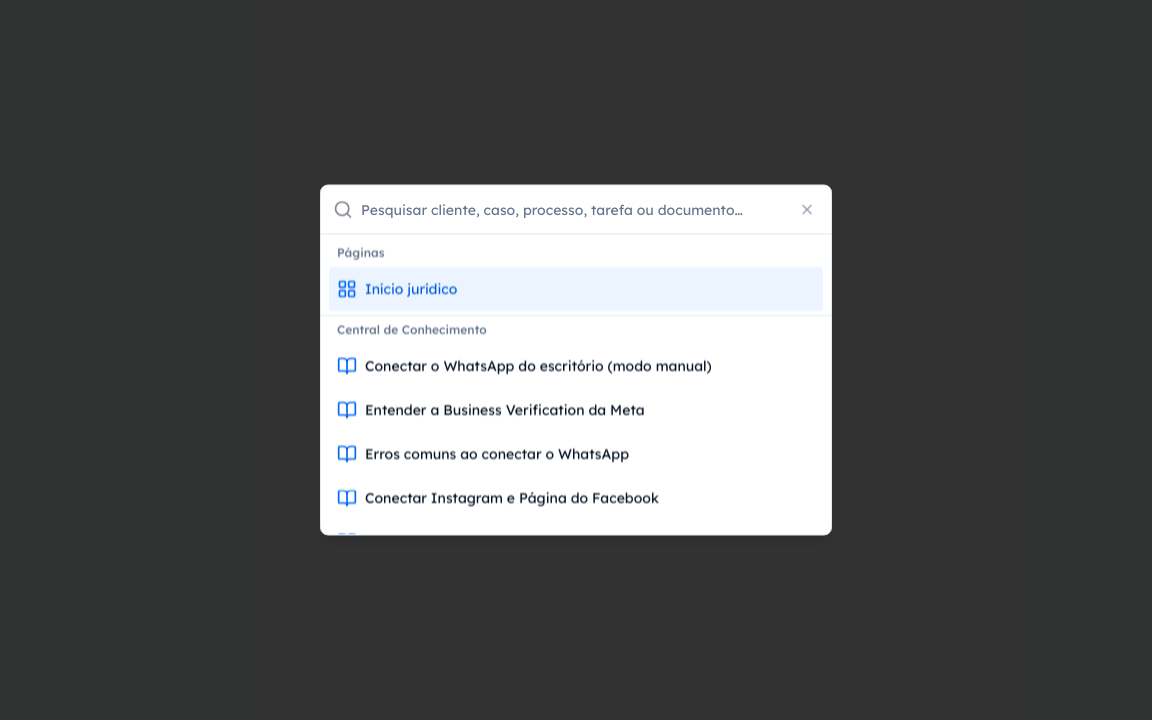
Test case: pesquisa jurídica global › consulta fontes reais somente após dois caracteres e preserva resultados parciais
In the dropdown named "Pesquisa jurídica global": (590, 210) [361, 186, 819, 234], type "p"
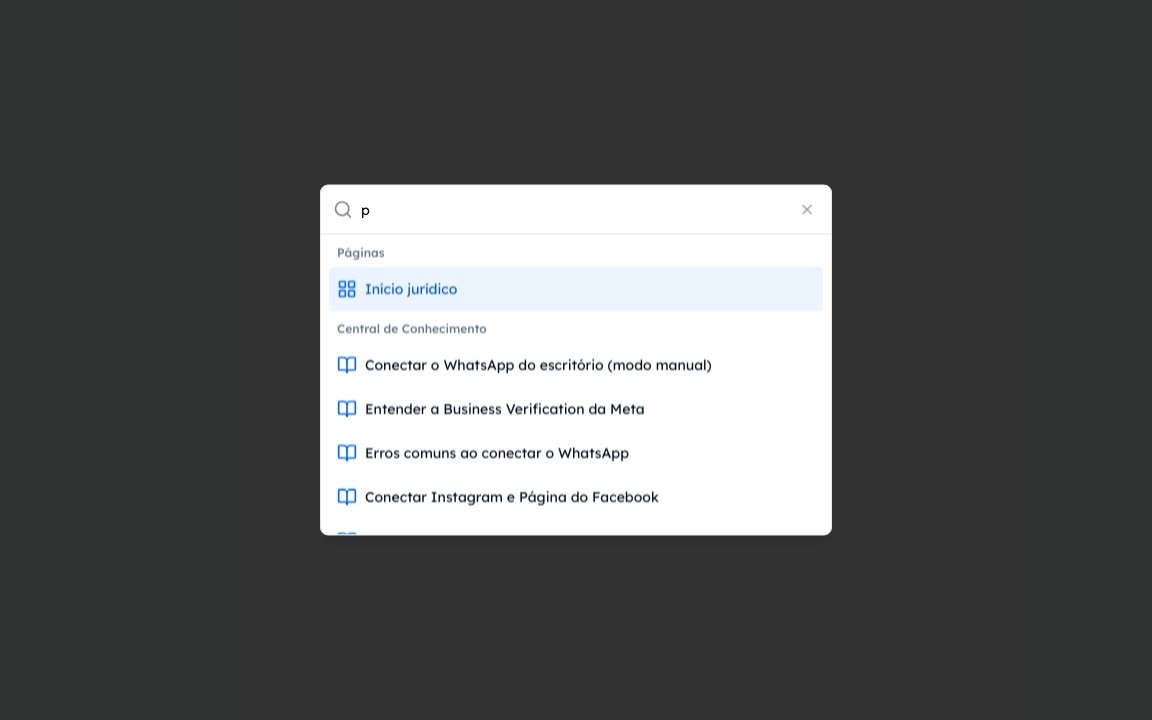
Replace the text in the dropdown named "Pesquisa jurídica global" with "fiscal": (590, 210) [361, 186, 819, 234]
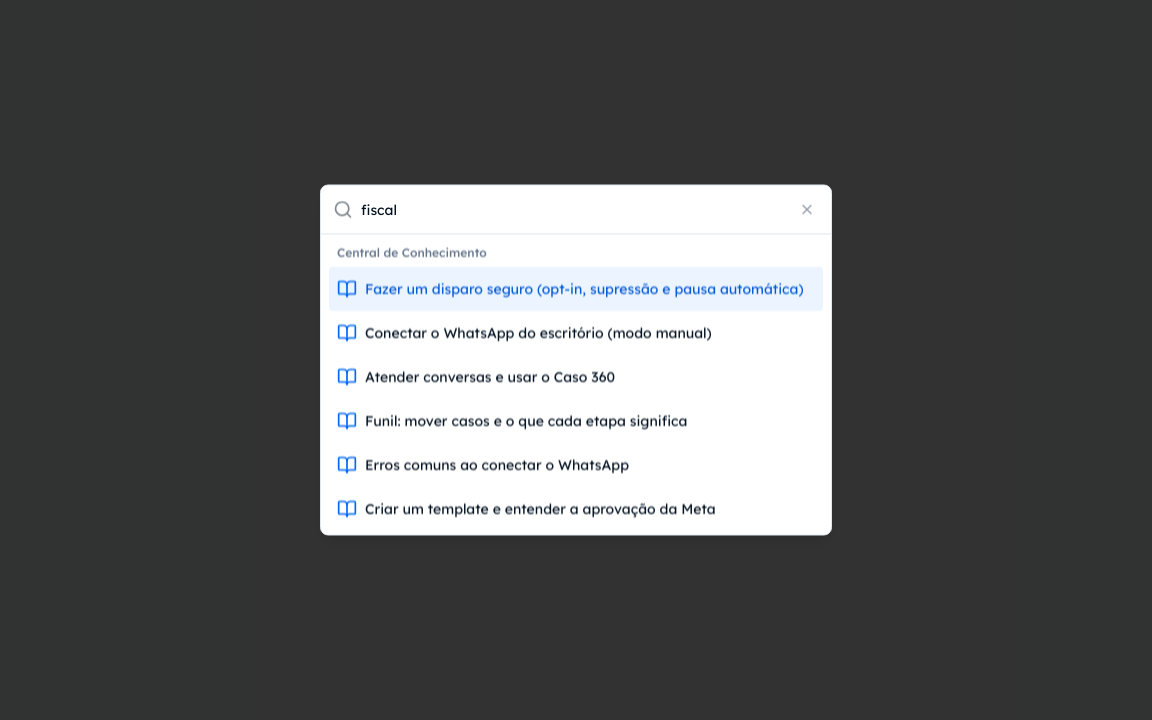
Replace the text in the dropdown named "Pesquisa jurídica global" with "0001234": (590, 210) [361, 186, 819, 234]
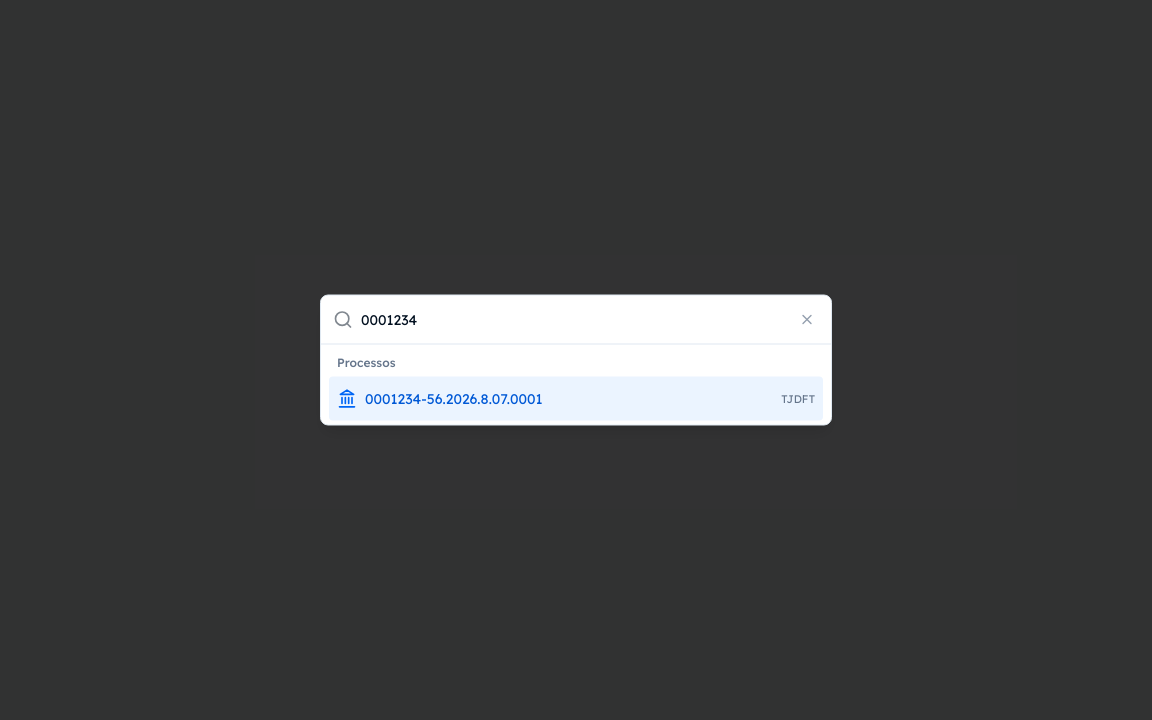
expect the text "0001234-56.2026.8.07.0001" is shown: met, box [365, 390, 542, 408]
